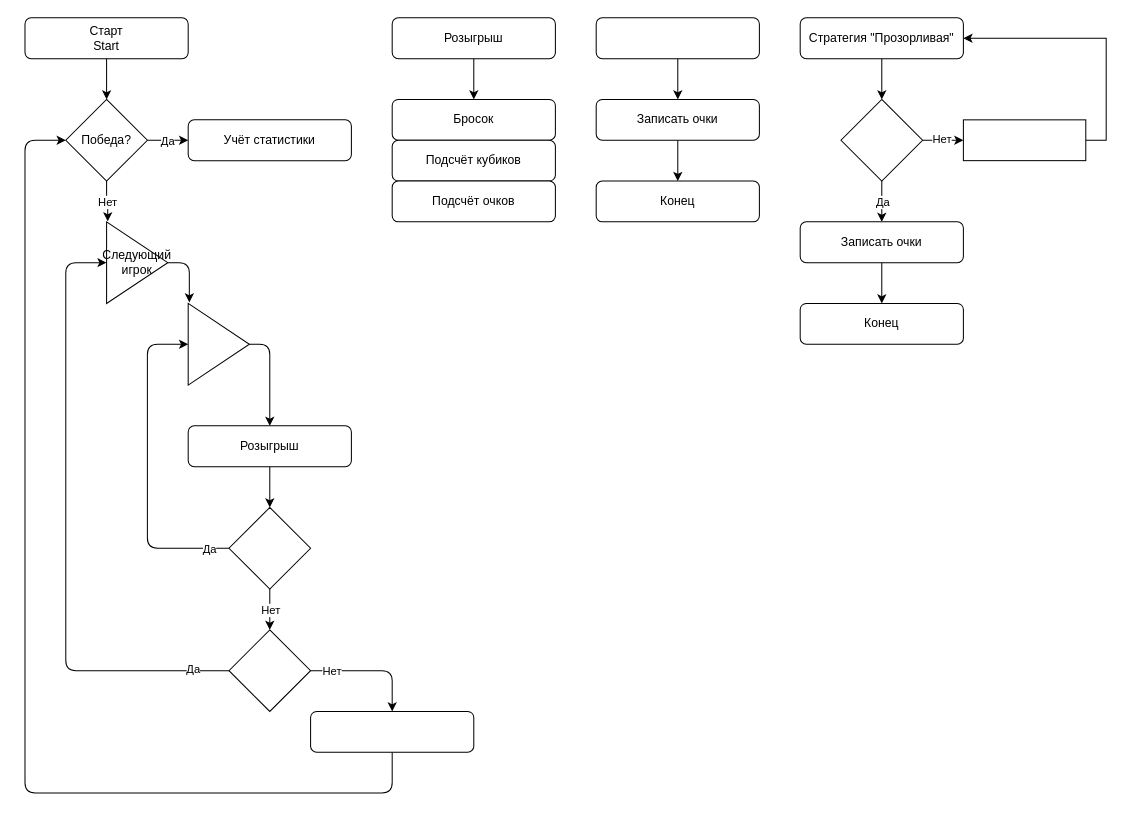
The diagram is 1132 pixels wide and 819 high, and some of its shapes have lost their labels. Here are the shapes that lost their labels. From the top down, the centre of each, then its label:
[677,38]: Стратегия "Жадная"
[881,139]: Очков больше 35?
[1024,140]: Перекинуть 5 кубов
[218,343]: Следующий ход
[269,547]: Небитка
[269,670]: Булка
[392,731]: Стратегия
